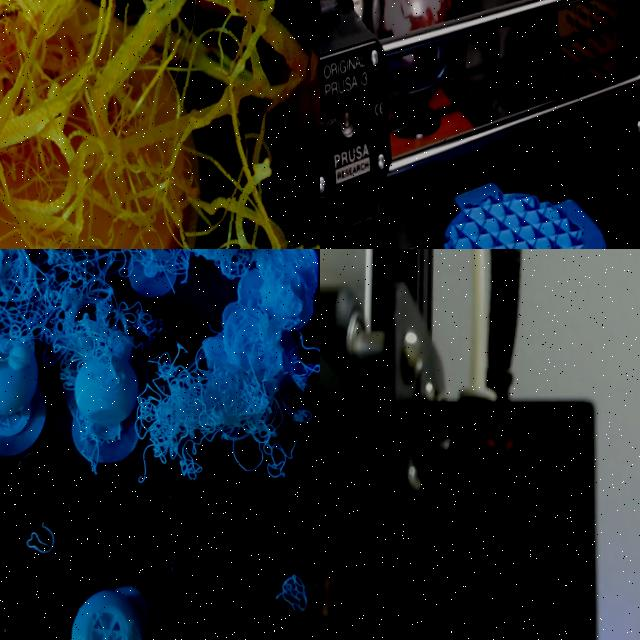spaghetti: (160, 249, 320, 499), (0, 249, 165, 340), (281, 558, 320, 637), (16, 517, 61, 566)
